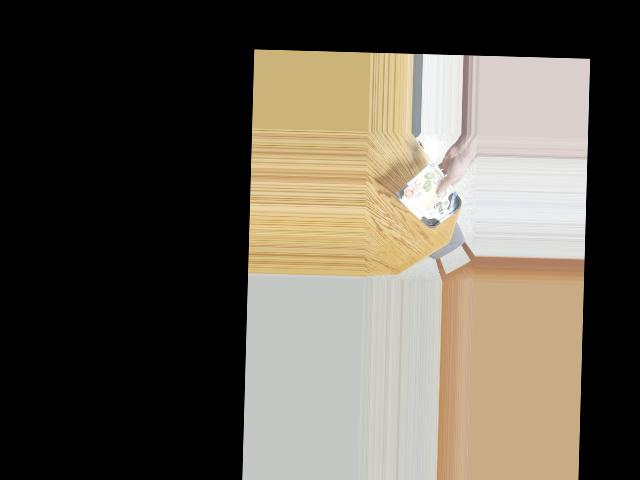cheese: (401, 180, 458, 220)
